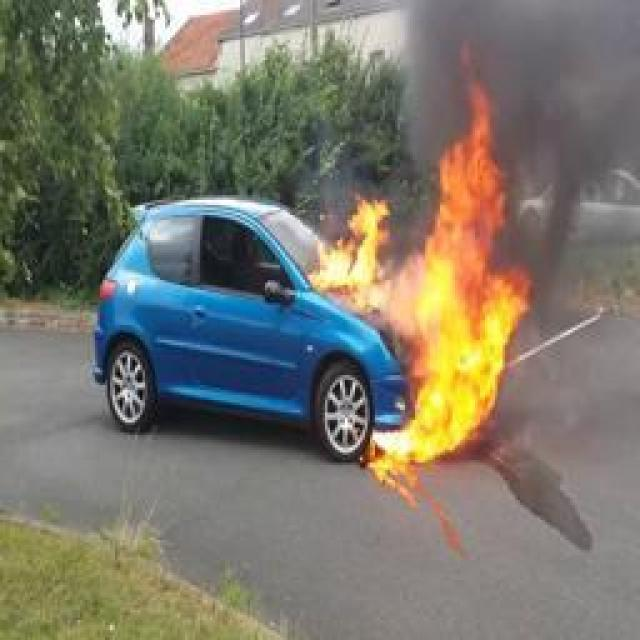Fire: (308, 55, 532, 463)
